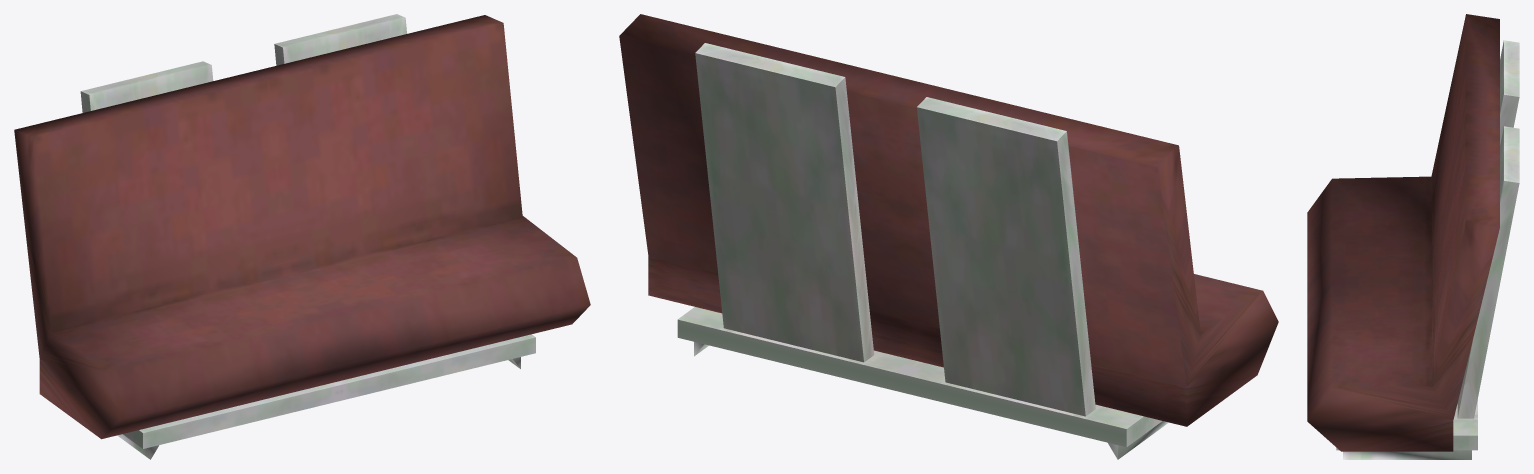
File: frn_all_couch_futon_s1_l2.fbx
3 views of the same model, side by side, from view 1: azimuth 30°, elevation 25°; view 2: azimuth 150°, elevation 25°; view 3: azimuth 270°, elevation 25° (orthographic). The views are drawn at different scales.
Visible parts, largest first — view 1: mesh_node; view 2: mesh_node; view 3: mesh_node.
Boxes of the visible parts, x1,y1,x2,y2 form: mesh_node: (14,14,590,459); mesh_node: (619,14,1278,459); mesh_node: (1307,14,1519,459).
Bounding box in the file's own units: 2 × 1.19 × 0.8562.
1 material, 1 textured.
